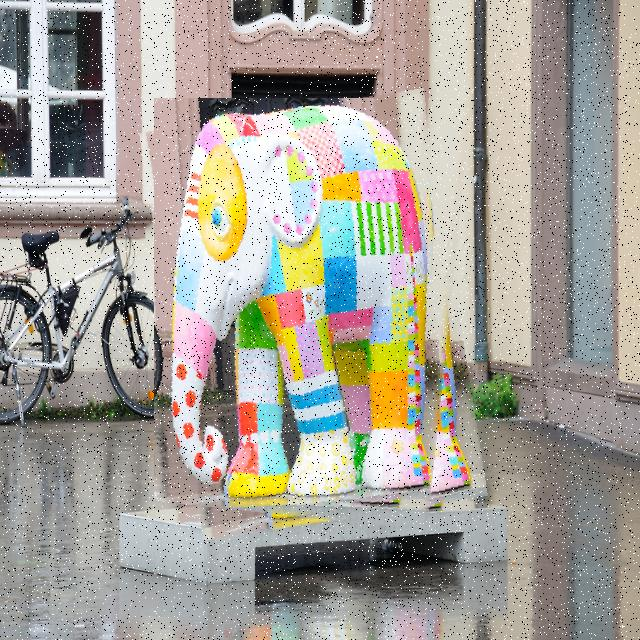elephant: (154, 98, 472, 531)
